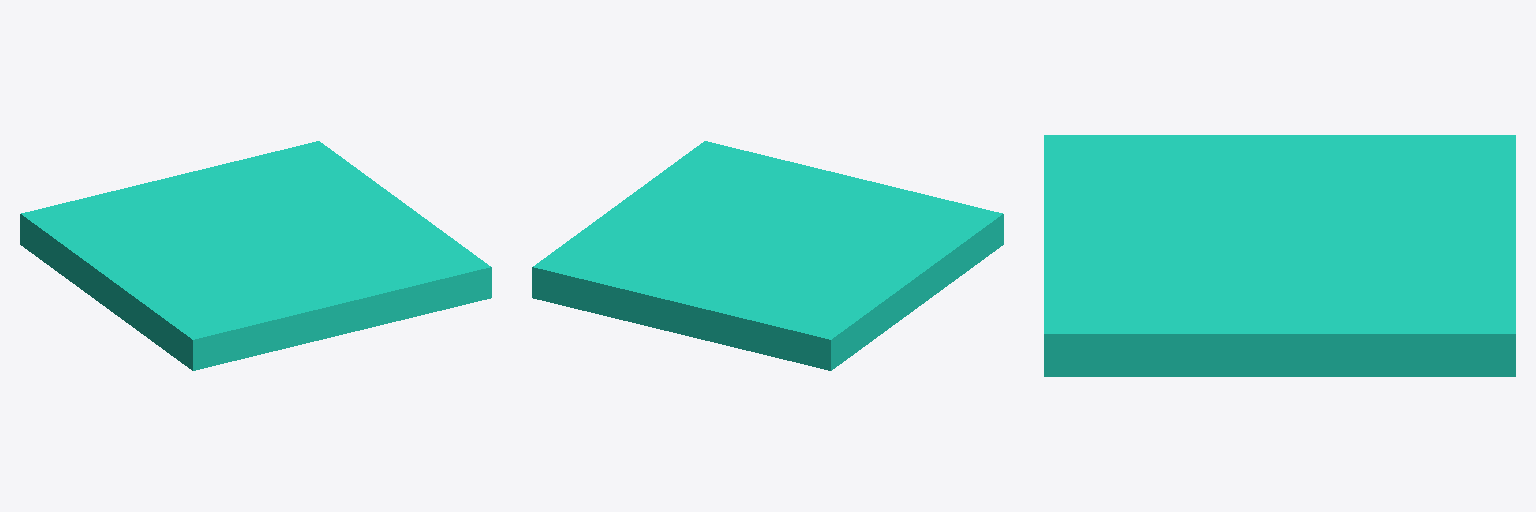
URDF robot description (plate):
<?xml version="1.0" ?>
<robot name="plate">
    <link name="base_link">
        <inertial>
            <origin xyz="0 0 0.0" rpy="0 -0 0" />
            <mass value="1" />
            <inertia ixx="0.1" iyy="0.1" izz="0.1" ixy="0" ixz="0" iyz="0" />
        </inertial>
    </link>
    <link name="link0">
        <inertial>
            <origin xyz="0 0 0.14" rpy="0 -0 0" />
            <mass value="4" />
            <inertia ixx="0.4" iyy="0.4" izz="0.4" ixy="0" ixz="0" iyz="0" />
        </inertial>

    </link>
    <link name="link1">
        <inertial>
            <origin xyz="0 0 0.0" rpy="0 -0 0" />
            <mass value="1" />
            <inertia ixx="0.1" iyy="0.1" izz="0.1" ixy="0" ixz="0" iyz="0" />
        </inertial>
        <visual>
            <origin xyz="0 0 0" rpy="0 -0 0" />
            <geometry>
                <box size="0.25 0.25 0.025"/>
            </geometry>
            <material name="material_plate">
                <color rgba="0.2 0.9 0.8 1.0" />
            </material>
        </visual>
        <collision>
            <origin xyz="0 0 0.03" rpy="0 -0 0" />
            <geometry>
                <box size="0.25 0.25 0.025"/>
            </geometry>
        </collision>
    </link>

    <joint name="j0" type="revolute">
        <parent link="base_link" />
        <child link="link0" />
        <origin xyz="0.000000 0.000000 0.0" rpy="0.000000 0.000000 0.000000" />
        <axis xyz="1 0 0" />
        <limit lower="-2.967" upper="2.967" effort="176" velocity="1.7104" />
    </joint>
    <joint name="j1" type="revolute">
        <parent link="link0" />
        <child link="link1" />
        <origin xyz="0.000000 0.000000 0.0" rpy="0.000000 0.000000 0.000000" />
        <axis xyz="0 1 0" />
        <limit lower="-2.0944" upper="2.0944" effort="176" velocity="1.7104" />
    </joint>
</robot>

--- What the picture shows (computed from the rendered views, not written in the file) ---
Views: 3 orthographic renders of the robot side by side, from view 1: azimuth 30°, elevation 25°; view 2: azimuth 150°, elevation 25°; view 3: azimuth 270°, elevation 25°.
Model plate with 3 links and 2 joints (2 revolute), rooted at base_link, posed all joints at 0.
Links seen in each view (by area): view 1: link1; view 2: link1; view 3: link1.
Boxes of the visible links, x1,y1,x2,y2 form: link1: (20, 141, 491, 370); link1: (532, 141, 1003, 370); link1: (1044, 135, 1515, 376).
Size in the robot's own frame: 0.25 by 0.25 by 0.025 metres.
Geometry: primitives only (box / cylinder / sphere), no mesh files.